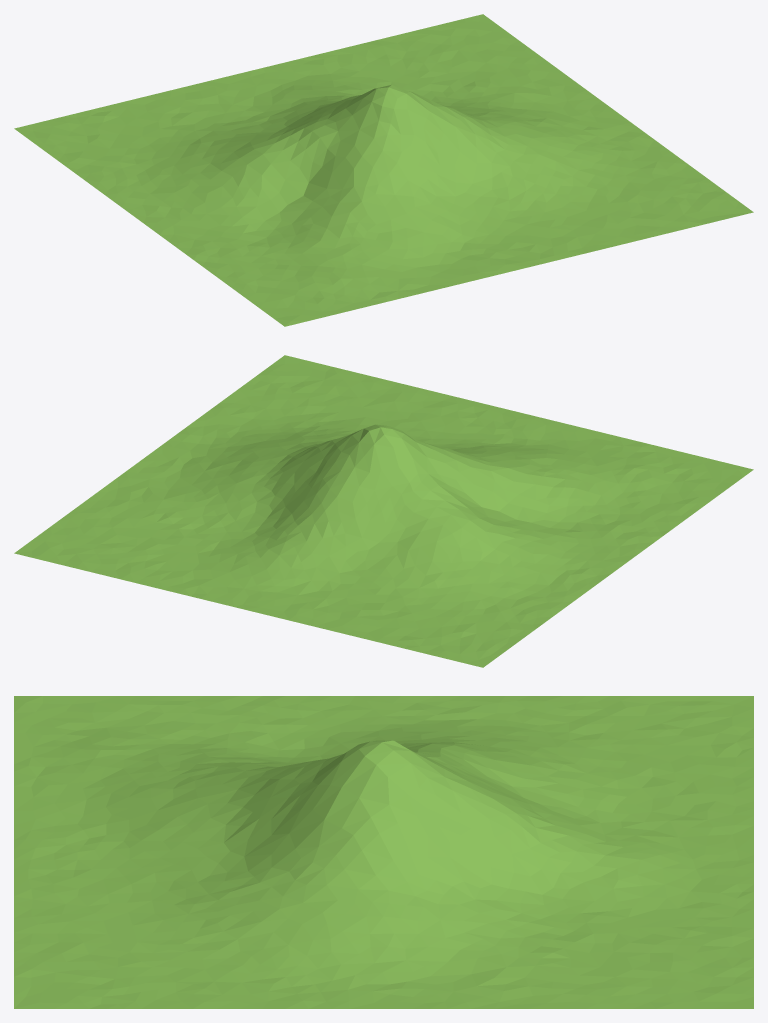
The model's file is MT_Terrain_L_a_32_LOD.fbx.
The picture shows the model from 3 angles, top to bottom: view 1: azimuth 30°, elevation 25°; view 2: azimuth 150°, elevation 25°; view 3: azimuth 270°, elevation 25°; orthographic projection. The views are drawn at different scales.
Visible parts, largest first — view 1: MT_Terrain_L_a_32_LOD0; view 2: MT_Terrain_L_a_32_LOD0; view 3: MT_Terrain_L_a_32_LOD0.
Part boxes in pixels (left/top/right/bottom): MT_Terrain_L_a_32_LOD0: left=14, top=14, right=753, bottom=326; MT_Terrain_L_a_32_LOD0: left=14, top=355, right=753, bottom=667; MT_Terrain_L_a_32_LOD0: left=14, top=696, right=753, bottom=1008.
Size of what is drawn, in the model's own units: 10000 by 1705 by 10000.
